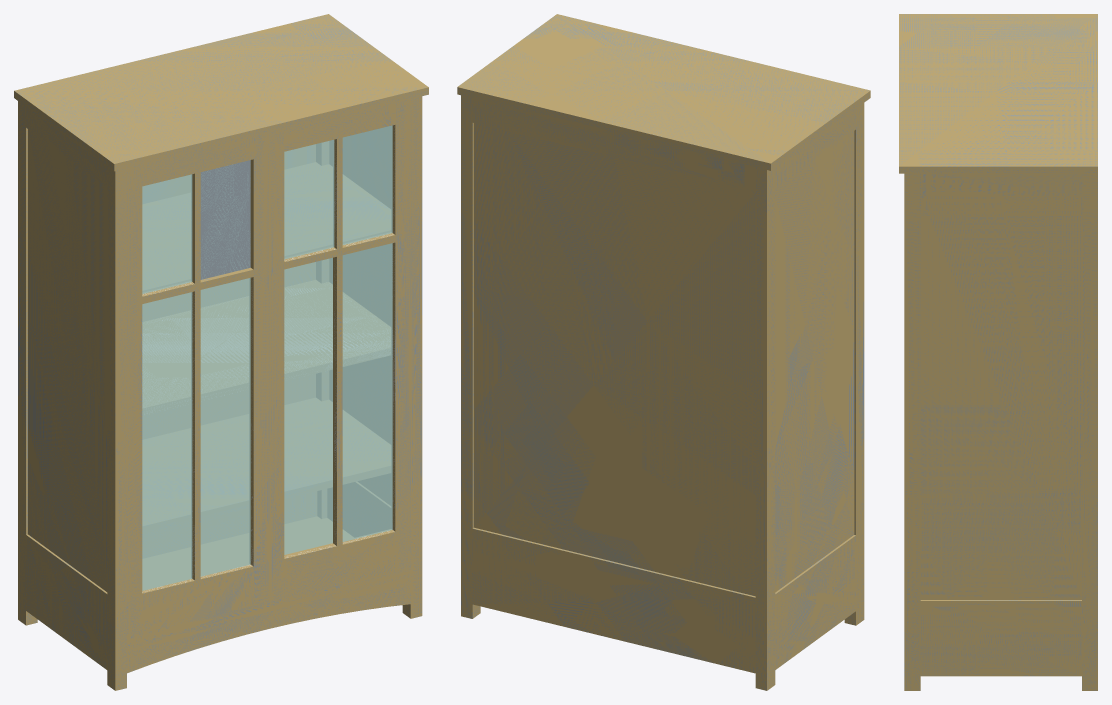
File: cabinet.dae
The picture shows the model from 3 angles, left to right: view 1: azimuth 30°, elevation 25°; view 2: azimuth 150°, elevation 25°; view 3: azimuth 270°, elevation 25°; orthographic projection.
Visible parts, largest first — view 1: Craftsman_bookshelf (×13); view 2: Craftsman_bookshelf; view 3: Craftsman_bookshelf.
Boxes of the visible parts, x1,y1,x2,y2 form: Craftsman_bookshelf (×13): (14,14,428,690); Craftsman_bookshelf: (457,14,870,690); Craftsman_bookshelf: (899,14,1097,690).
Bounding box in the file's own units: 52.19 × 28.78 × 83.99.
